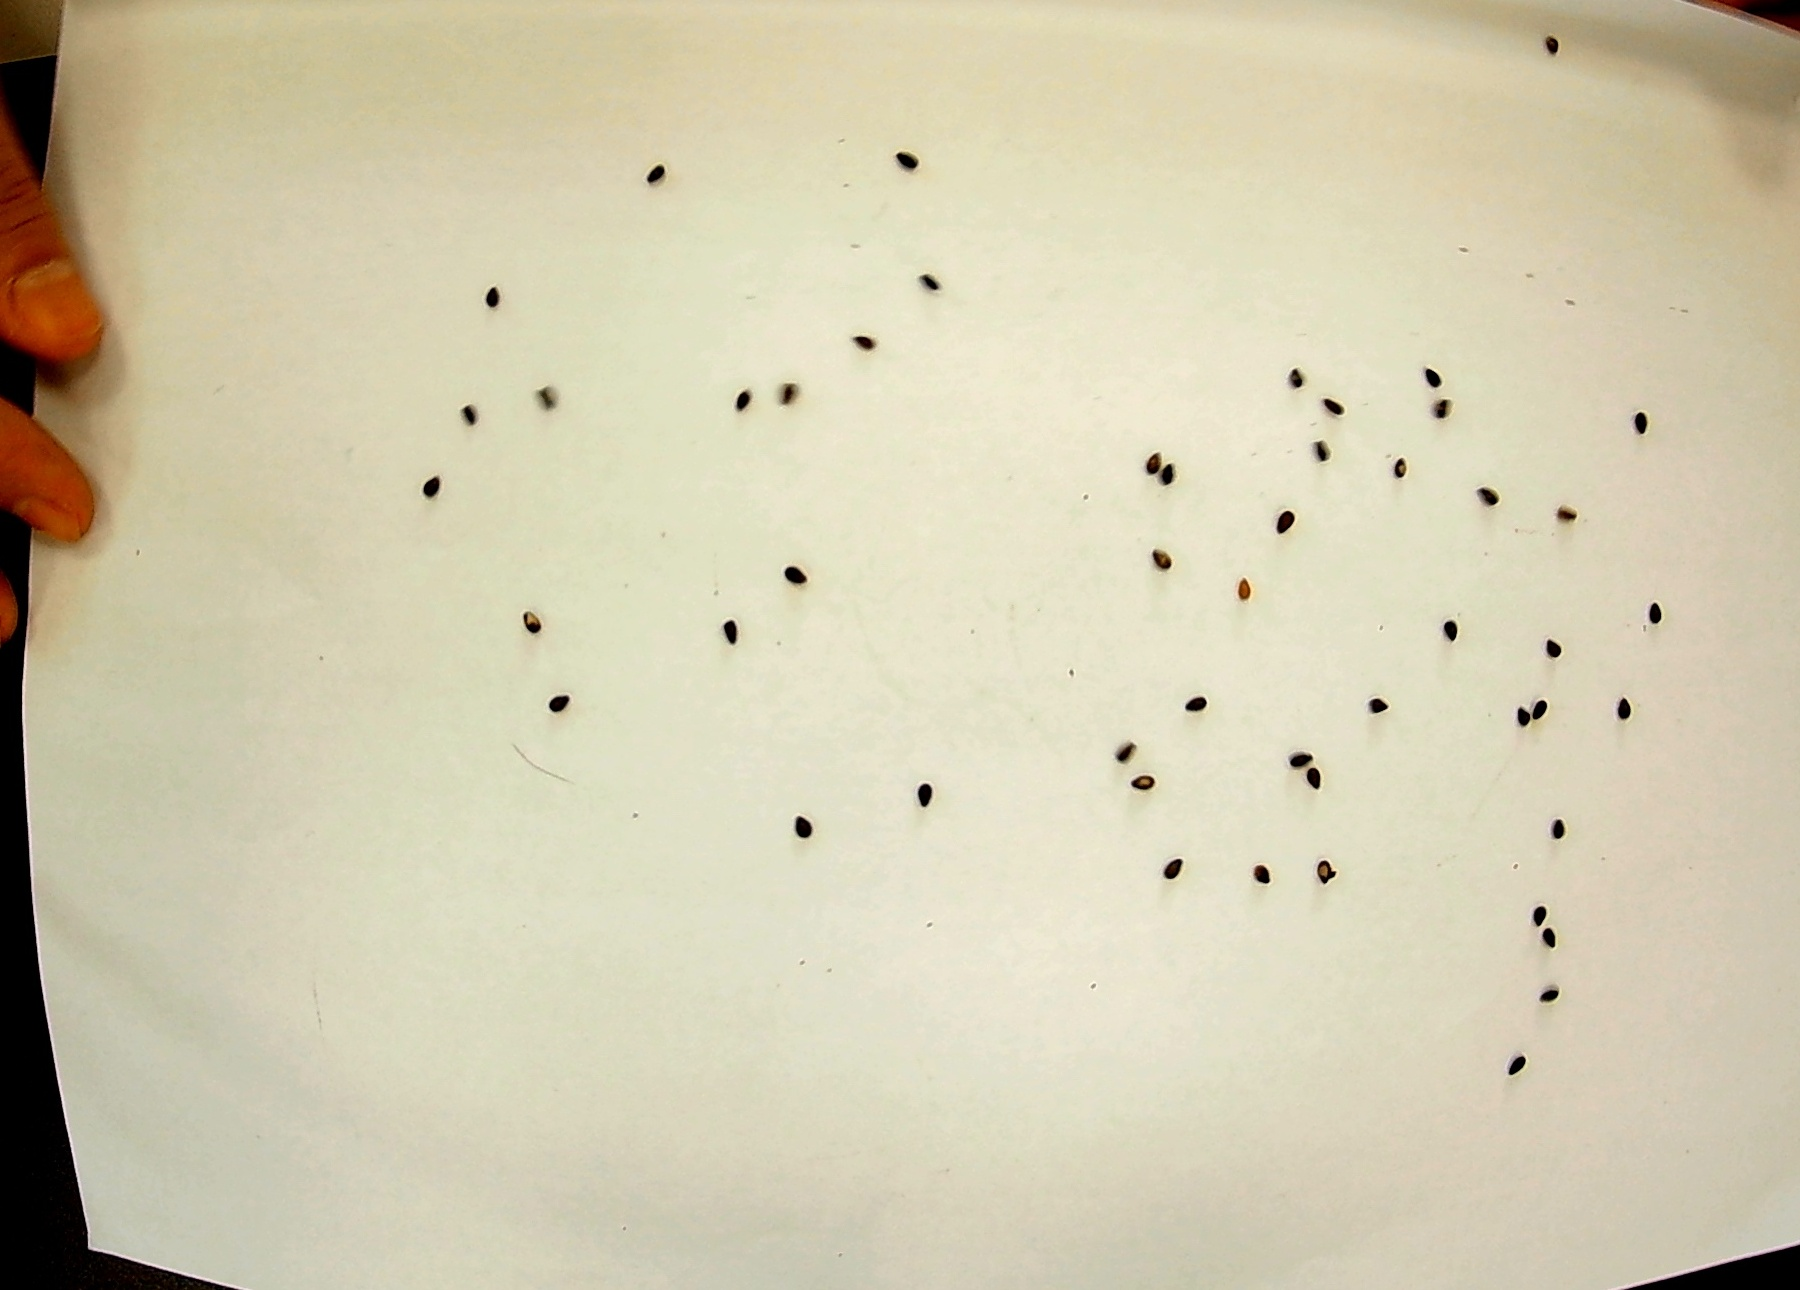sesami: (1465, 476, 1520, 514), (410, 459, 458, 498), (720, 616, 758, 660), (1507, 1035, 1538, 1088), (880, 141, 927, 176), (1307, 854, 1349, 892), (903, 269, 959, 297), (1242, 852, 1282, 888), (1296, 436, 1341, 468), (516, 607, 548, 651), (1362, 692, 1393, 737), (449, 403, 495, 433), (1274, 364, 1312, 399), (631, 163, 664, 202), (1154, 842, 1187, 881), (1126, 447, 1164, 480), (487, 272, 511, 322), (779, 560, 815, 592), (1228, 570, 1259, 607), (1542, 797, 1568, 840), (1300, 766, 1334, 800), (1141, 544, 1176, 577), (546, 681, 576, 718), (1511, 699, 1532, 752), (1425, 396, 1457, 430), (908, 780, 943, 811), (1434, 618, 1465, 653), (1538, 634, 1573, 665), (1407, 362, 1450, 385), (1160, 450, 1180, 498), (1539, 924, 1580, 949), (1384, 457, 1420, 483), (1130, 768, 1161, 799), (1273, 508, 1305, 537), (1627, 406, 1660, 434), (1524, 980, 1566, 1002), (780, 815, 819, 839), (1282, 743, 1321, 766), (1649, 589, 1670, 631), (1554, 504, 1584, 533), (1535, 687, 1557, 725), (1180, 690, 1213, 715), (1614, 692, 1641, 722), (847, 327, 878, 350), (731, 384, 751, 420), (1524, 900, 1550, 927), (1320, 396, 1349, 419), (1529, 38, 1564, 56)
